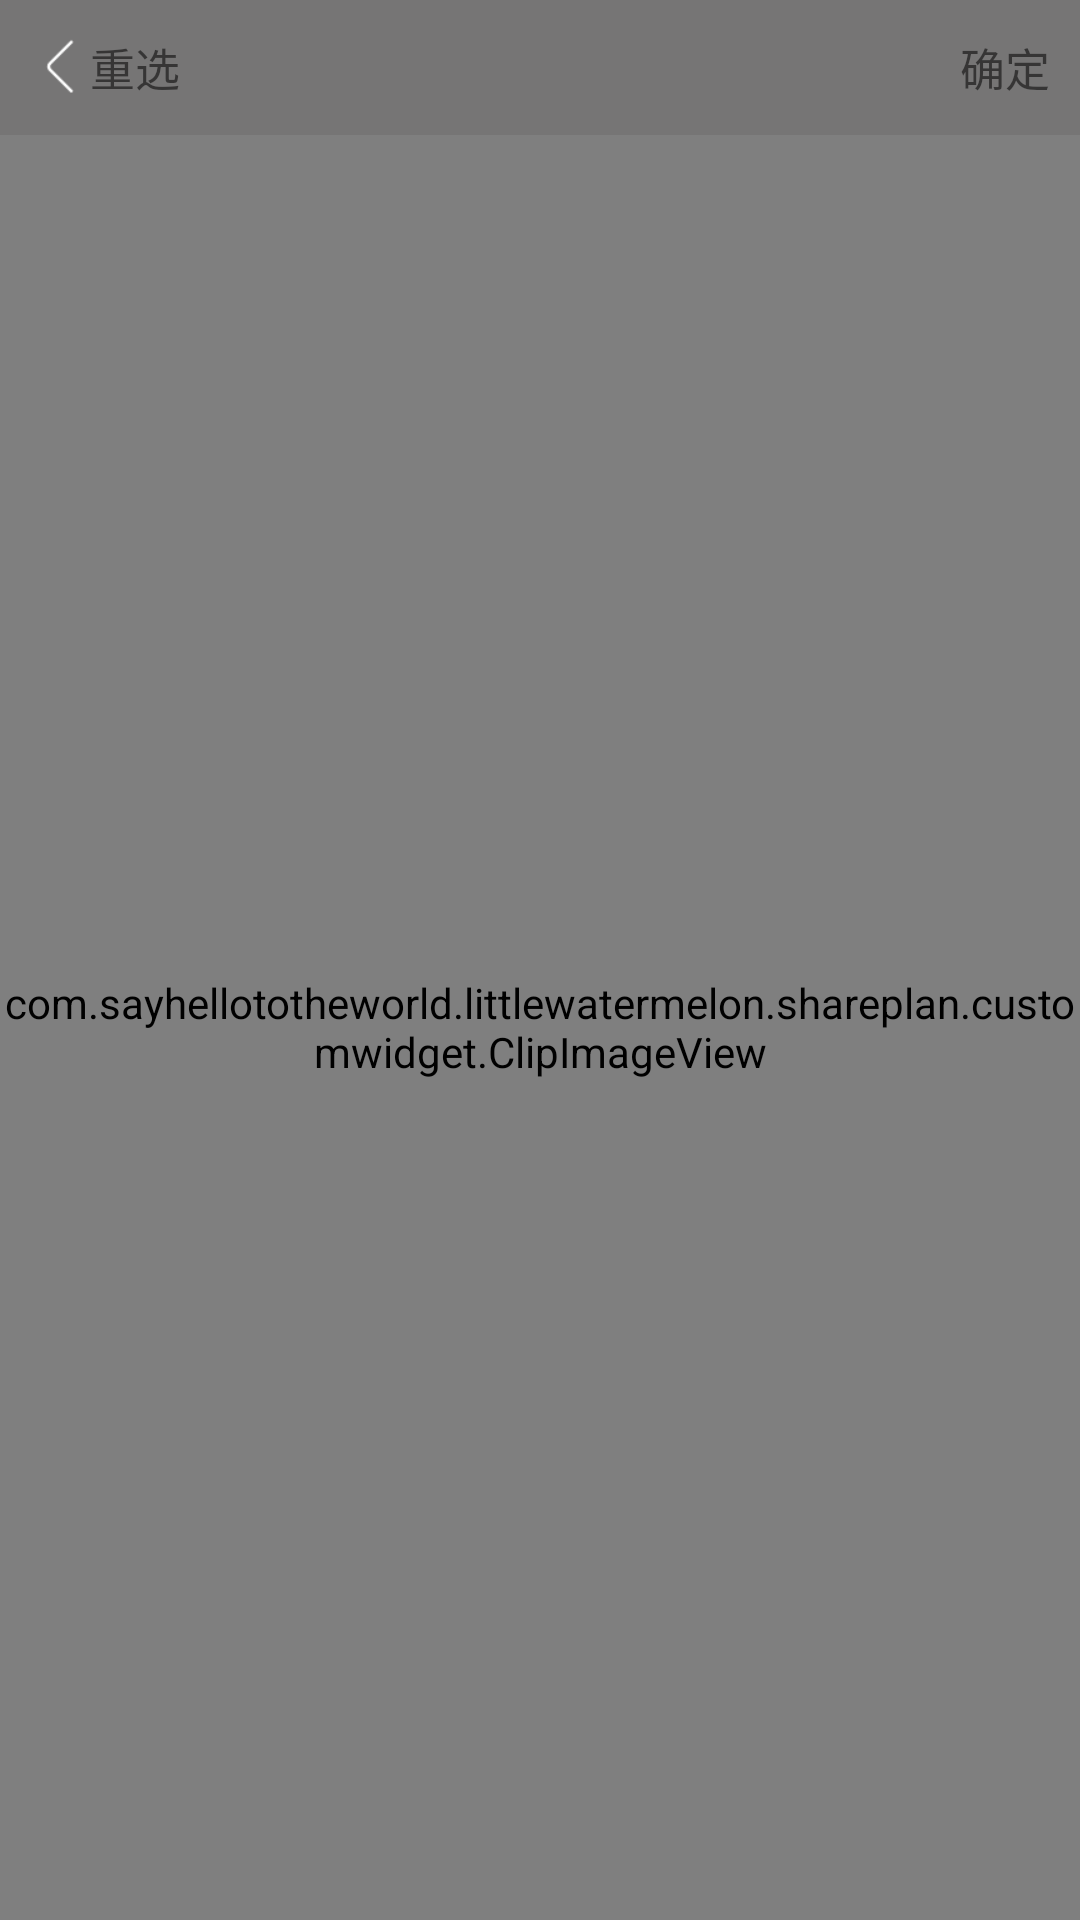

Named icons in this screenshot (1080px x 1920px) and their bounding boxes, [x1=x1, y1=y1, x2=x2, y2=y2]:
back: [x1=47, y1=40, x2=73, y2=93]
